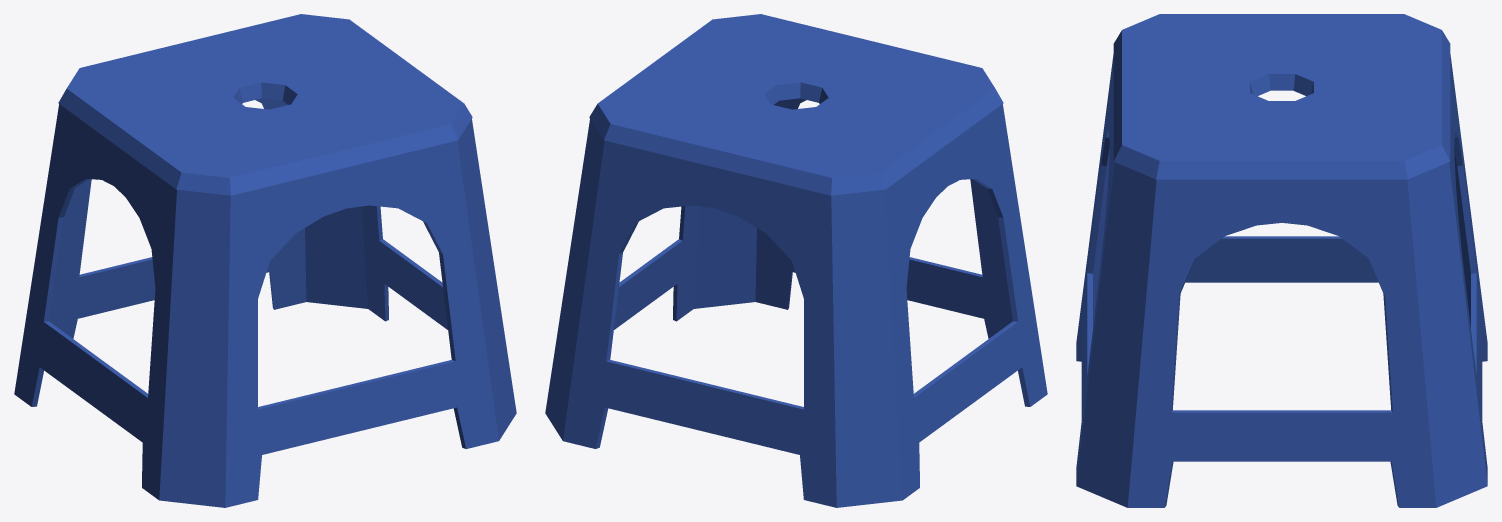
File: SM_Furniture_StoolLow_Blue_01.glb
3 views of the same model, side by side, from view 1: azimuth 30°, elevation 25°; view 2: azimuth 150°, elevation 25°; view 3: azimuth 270°, elevation 25° (orthographic). The views are drawn at different scales.
Parts seen in each view (by area): view 1: SM_Furniture_StoolLow_Blue_01; view 2: SM_Furniture_StoolLow_Blue_01; view 3: SM_Furniture_StoolLow_Blue_01.
Boxes of the visible parts, x1,y1,x2,y2 form: SM_Furniture_StoolLow_Blue_01: (14,14,516,507); SM_Furniture_StoolLow_Blue_01: (545,14,1047,507); SM_Furniture_StoolLow_Blue_01: (1076,14,1487,507).
Size of the model in its own units: 0.316 by 0.26 by 0.296.
Materials: 1 (1 with a texture image).
